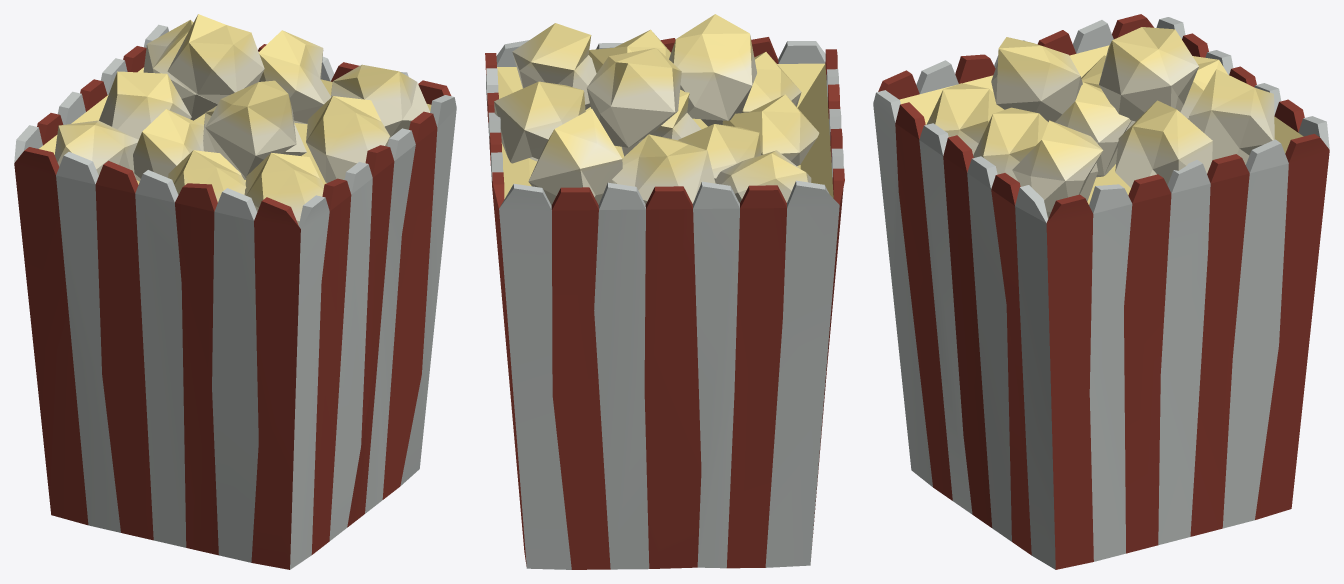
File: SM_prop_Popcorn_01.obj
3 renders of one model, left to right at view 1: azimuth 30°, elevation 25°; view 2: azimuth 150°, elevation 25°; view 3: azimuth 270°, elevation 25°, orthographic. The views are drawn at different scales.
Parts seen in each view (by area): view 1: SM_prop_Popcorn_01_0; view 2: SM_prop_Popcorn_01_0; view 3: SM_prop_Popcorn_01_0.
Boxes of the visible parts, x1,y1,x2,y2 form: SM_prop_Popcorn_01_0: (14,14,456,569); SM_prop_Popcorn_01_0: (485,14,844,569); SM_prop_Popcorn_01_0: (873,14,1329,569).
Size of the model in its own units: 0.2004 by 0.2245 by 0.2004.
Materials: 1 (1 with a texture image).
